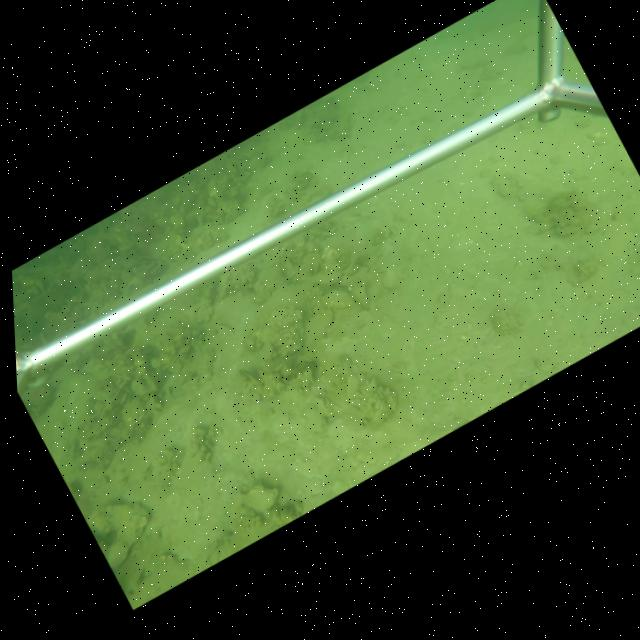Oyster-Closed: (300, 303, 336, 352), (227, 484, 281, 515), (316, 267, 344, 286), (314, 398, 333, 418), (258, 343, 276, 362), (216, 322, 234, 336), (277, 253, 285, 276), (307, 240, 320, 252)
Oyster-Indeterminate: (87, 501, 151, 569), (320, 289, 353, 309), (348, 283, 369, 310)
Oyster-Open: (139, 255, 156, 264)
